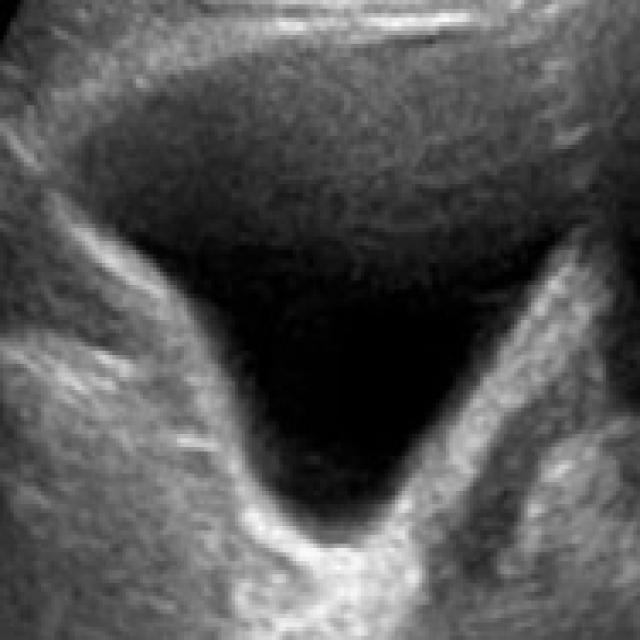bladder: (38, 0, 593, 587)
